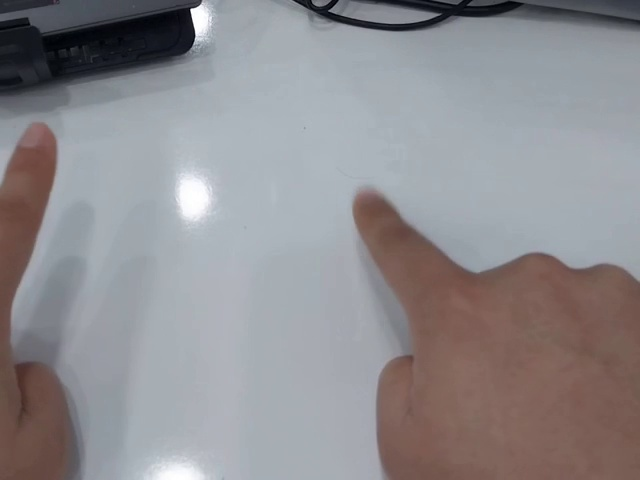fingers: (7, 121, 59, 179), (350, 187, 404, 230)
